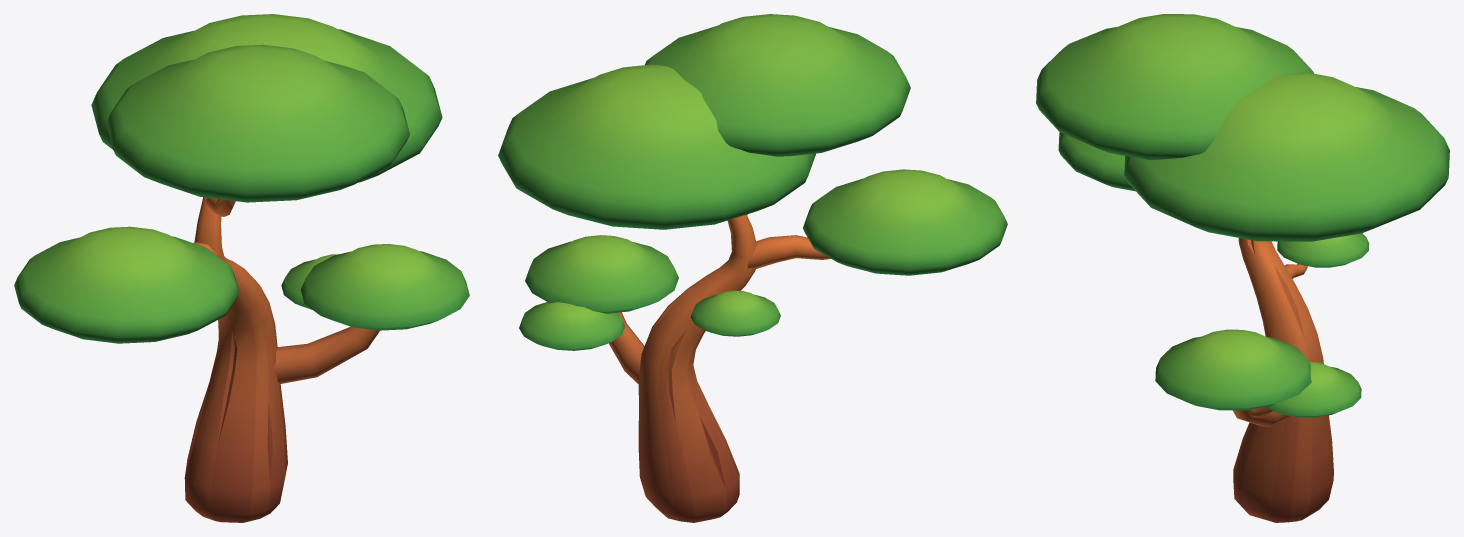
Rendered from Tree_3_C_Color1.glb.
3 renders of one model, left to right at view 1: azimuth 30°, elevation 25°; view 2: azimuth 150°, elevation 25°; view 3: azimuth 270°, elevation 25°, orthographic. The views are drawn at different scales.
Visible parts, largest first — view 1: Tree_3_C_Color1; view 2: Tree_3_C_Color1; view 3: Tree_3_C_Color1.
Boxes of the visible parts, bbox=[...] form: Tree_3_C_Color1: bbox=[14, 14, 469, 522]; Tree_3_C_Color1: bbox=[498, 14, 1007, 522]; Tree_3_C_Color1: bbox=[1036, 14, 1449, 522].
Bounding box in the file's own units: 5.63 × 5.79 × 4.62.
1 material, 1 textured.
